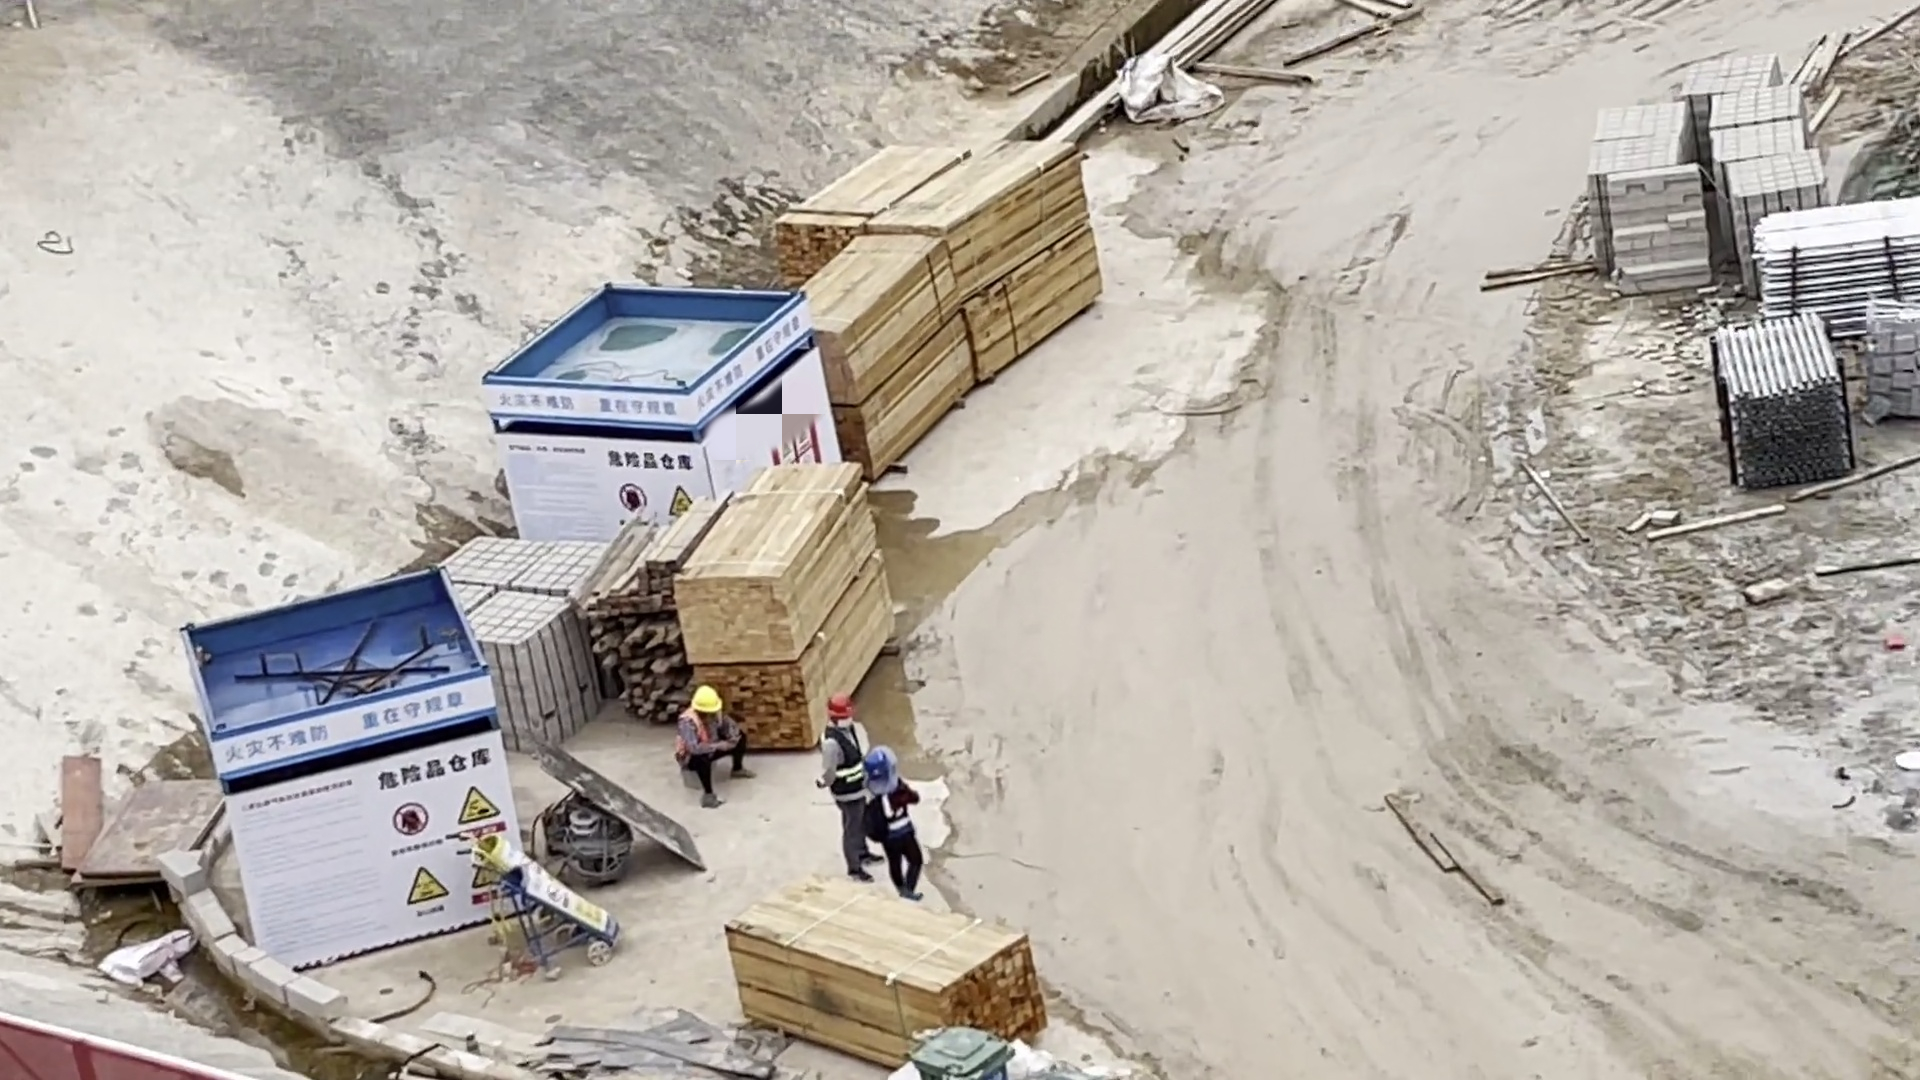brick: (446, 534, 595, 754), (1686, 52, 1815, 294), (1591, 104, 1715, 290)
helmet: (691, 686, 722, 713), (863, 750, 890, 780), (826, 693, 856, 719)
person: (815, 692, 883, 884), (674, 684, 762, 810), (862, 744, 926, 904)
scaffold: (1713, 314, 1848, 491), (1753, 196, 1920, 337)
slogan: (221, 673, 481, 776), (487, 379, 694, 428)
vest: (823, 725, 863, 797), (676, 710, 721, 766), (875, 785, 914, 837)
wood: (778, 143, 1102, 385), (724, 872, 1048, 1069), (801, 232, 975, 483), (675, 460, 877, 659), (589, 517, 692, 729), (725, 661, 818, 746)
